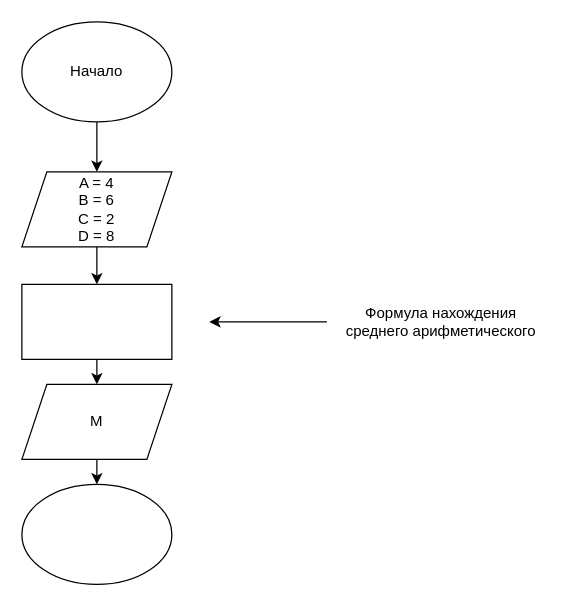
This 569x606 diagram has some shape labels left out. The shapes that lost their labels are listed below. From the top down, each one's box as (x1, y1, x2, y2) in pixels, then its label:
(21, 283, 172, 359): M = (A+B+C+D)/4
(21, 483, 172, 584): Конец
